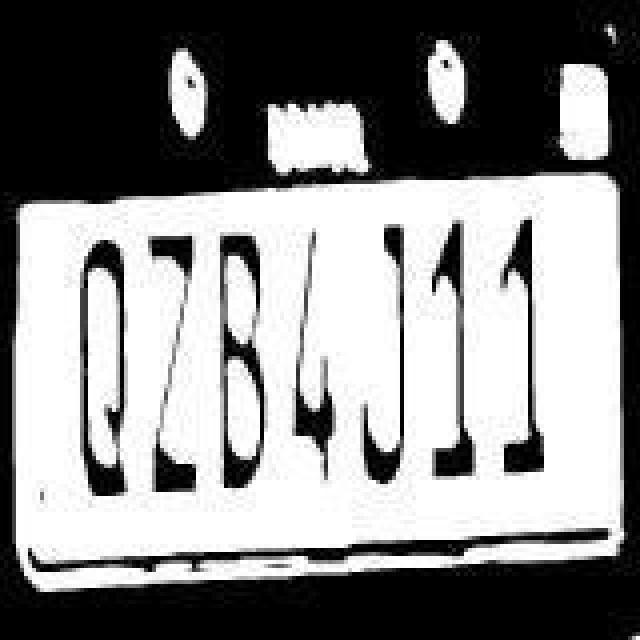1: (494, 212, 562, 484), (426, 216, 486, 488)
4: (276, 224, 340, 496)
B: (208, 222, 272, 498)
J: (354, 218, 422, 486)
Q: (72, 234, 136, 510)
Z: (142, 226, 202, 502)
